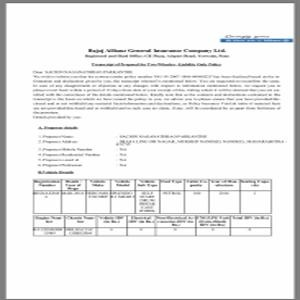image: (218, 33, 293, 44)
table: (35, 178, 272, 214), (33, 214, 272, 239)
text: (29, 69, 282, 121), (35, 125, 284, 175), (85, 47, 229, 68)
